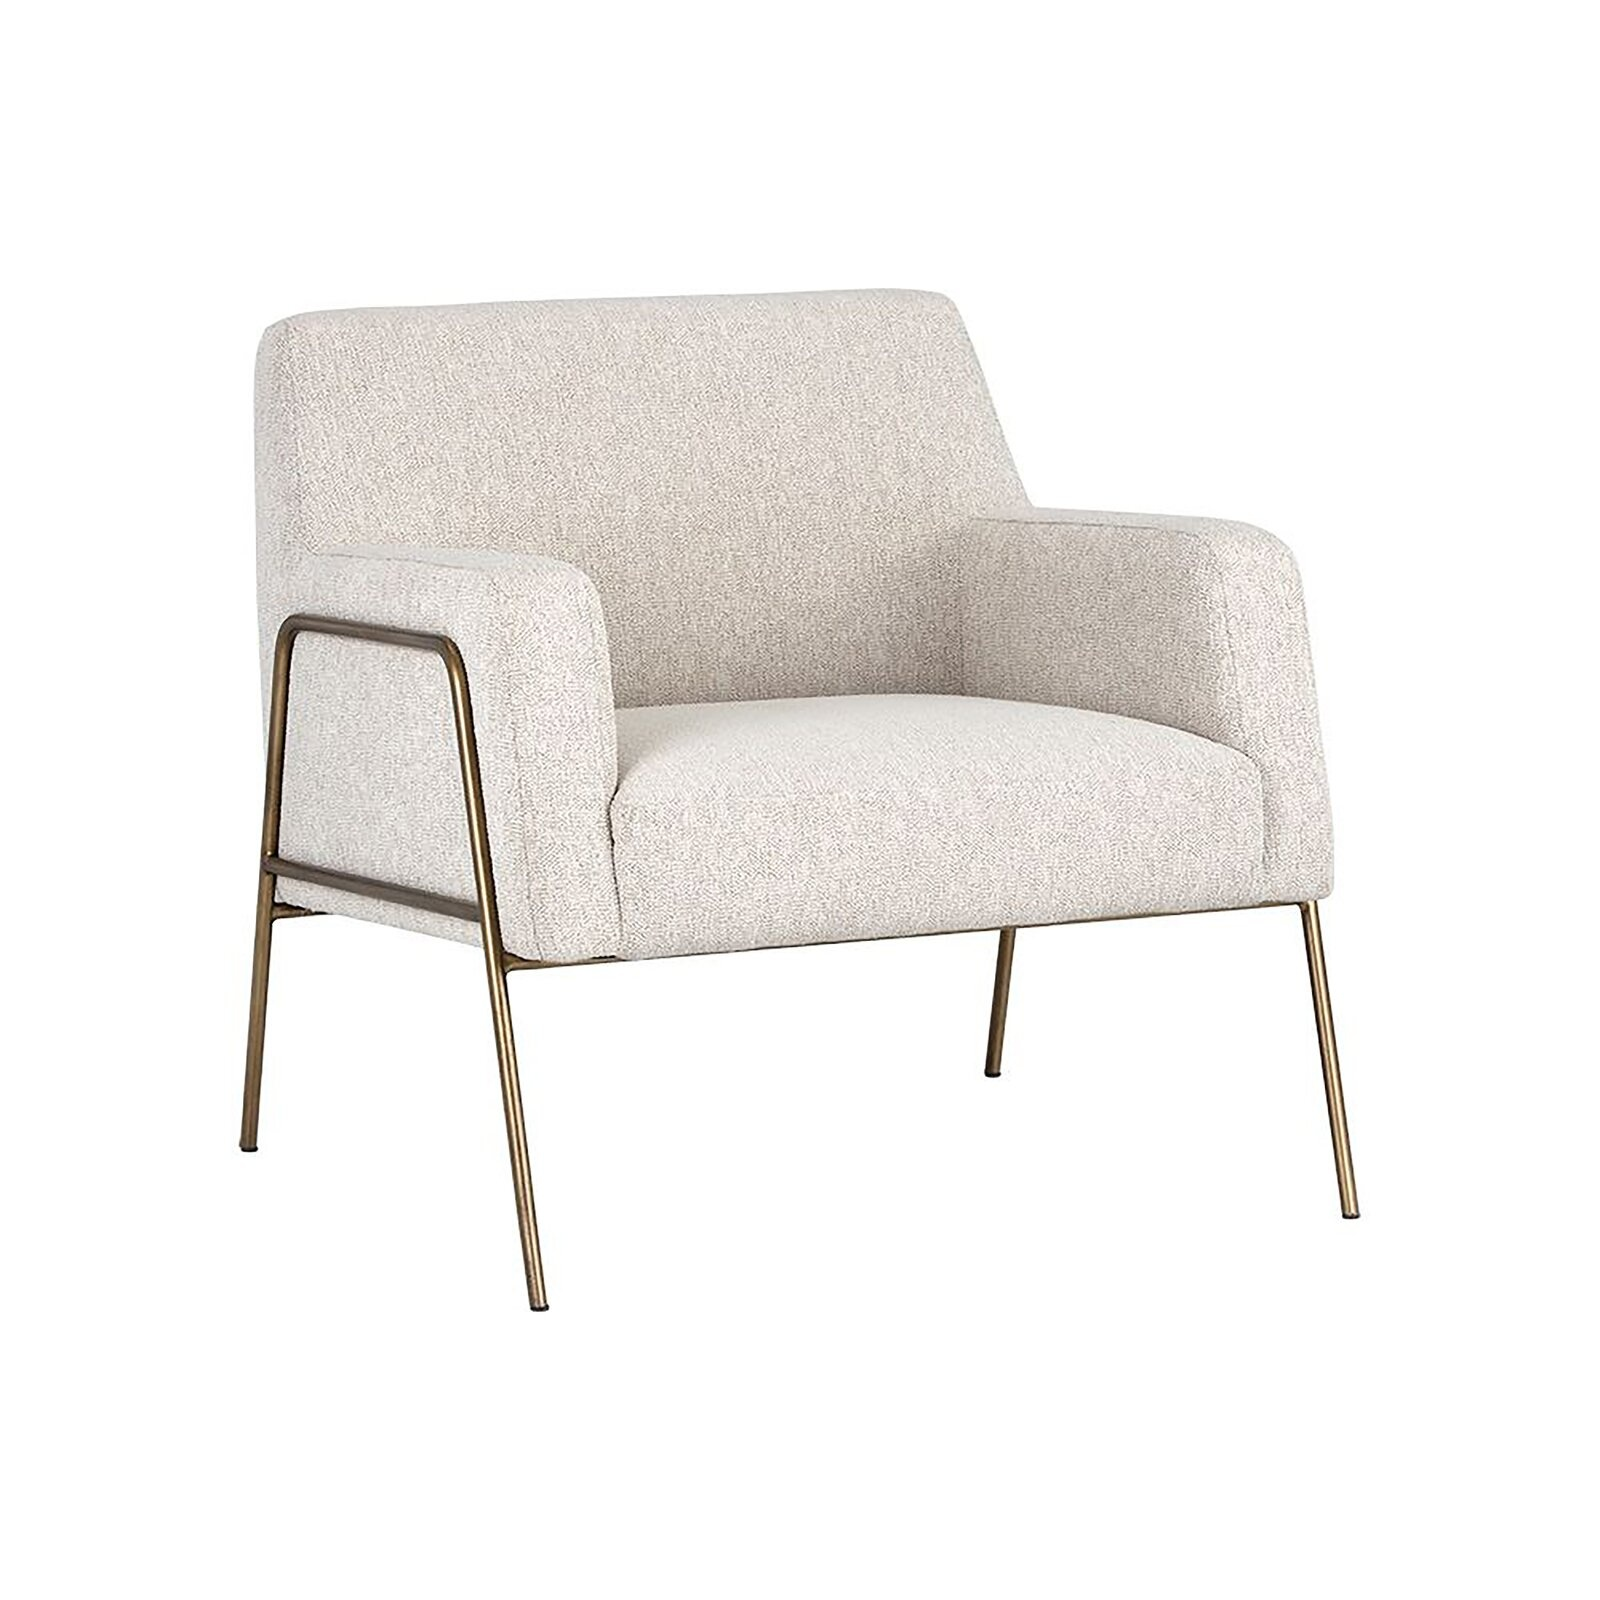obstacle: (245, 292, 1354, 1212)
